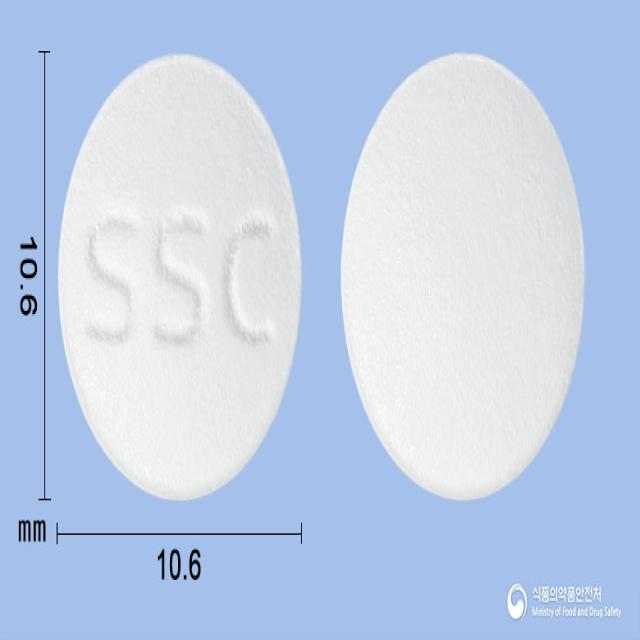Ciprofloxacin Tab- Samsung: (54, 48, 308, 504)
